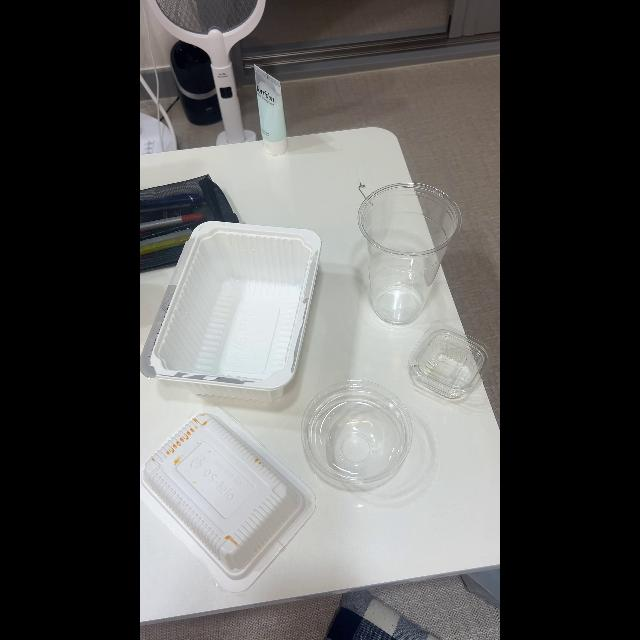clean: (140, 224, 320, 392), (358, 182, 462, 324), (303, 382, 413, 484), (409, 328, 491, 398)
dirty: (143, 413, 303, 572)
